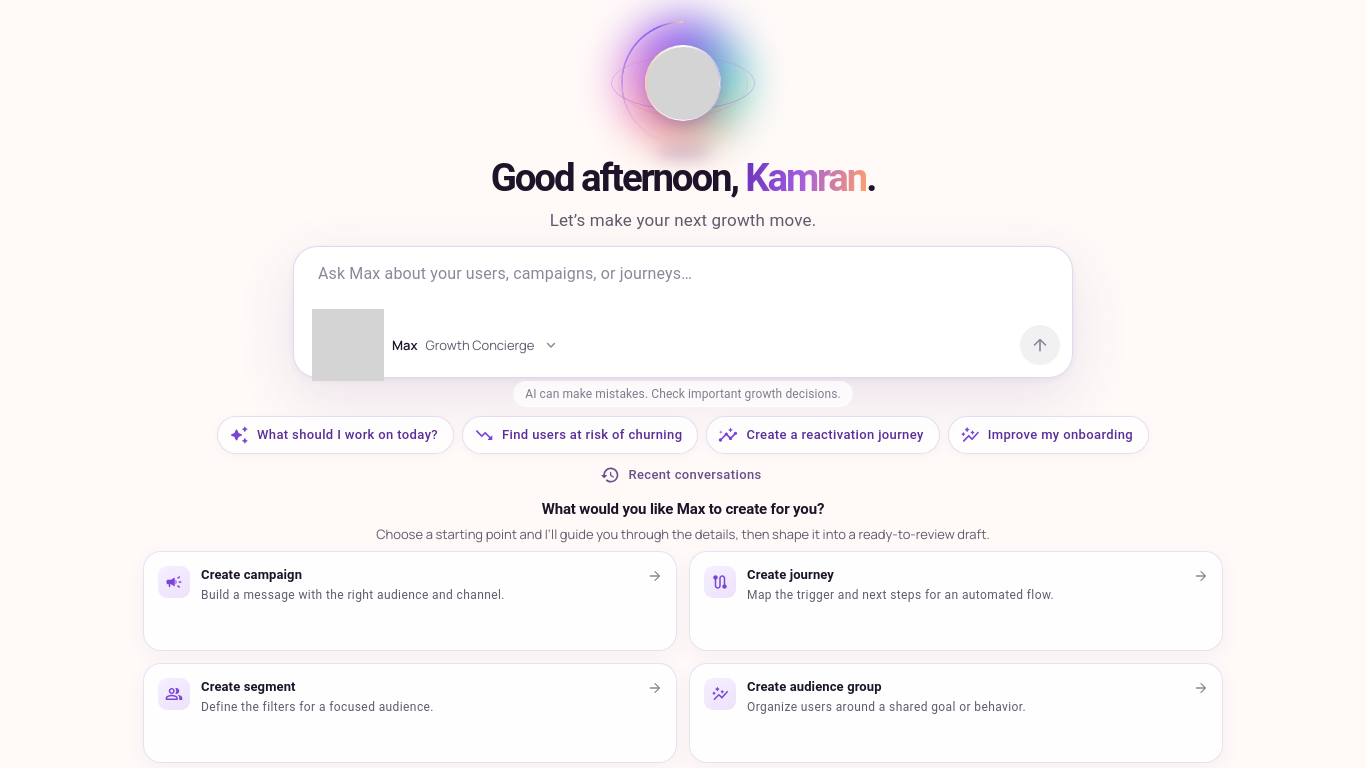
Test: Home chat › searches recent conversations and resumes the selected thread
Click the button "Recent conversations" at (683, 475), box [594,460,772,490]
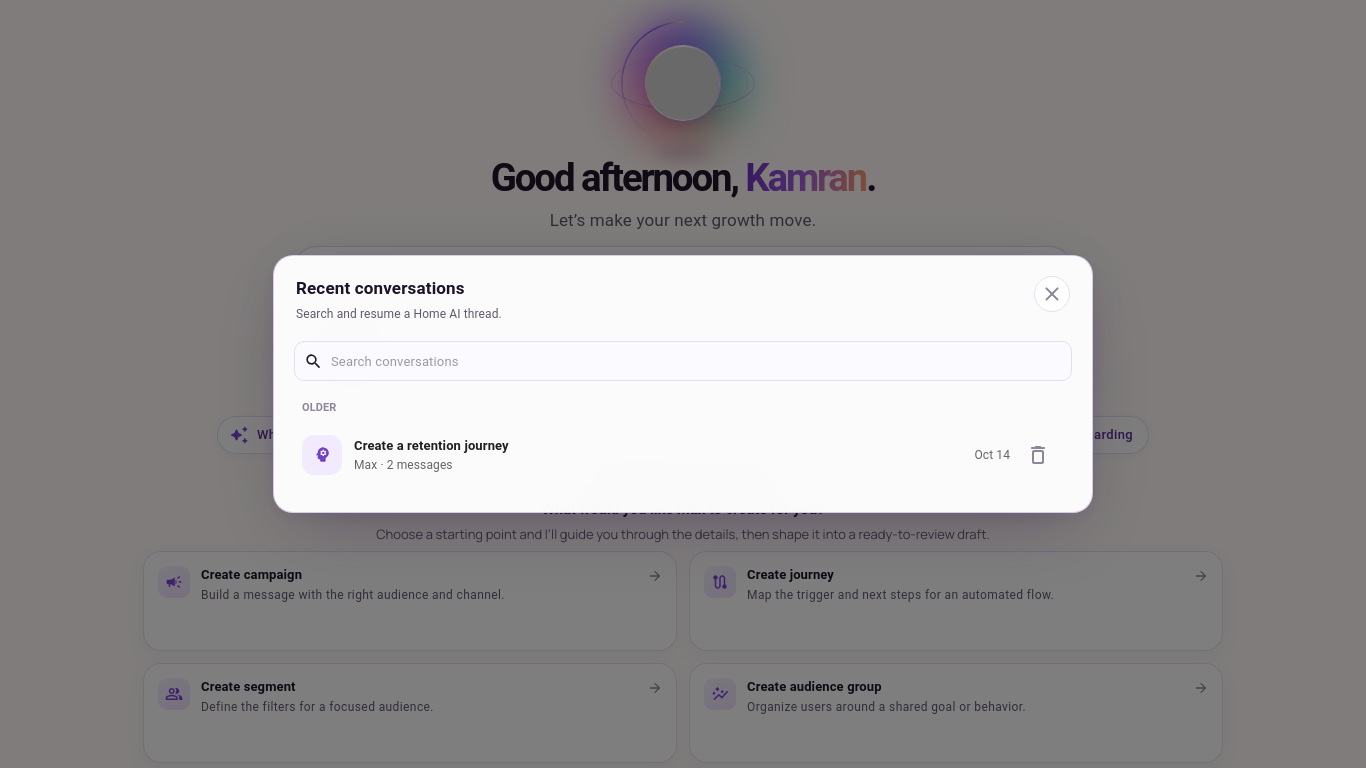
Type "retention" into the field labelled "Search conversations" at (696, 361), box [331,348,1062,374]
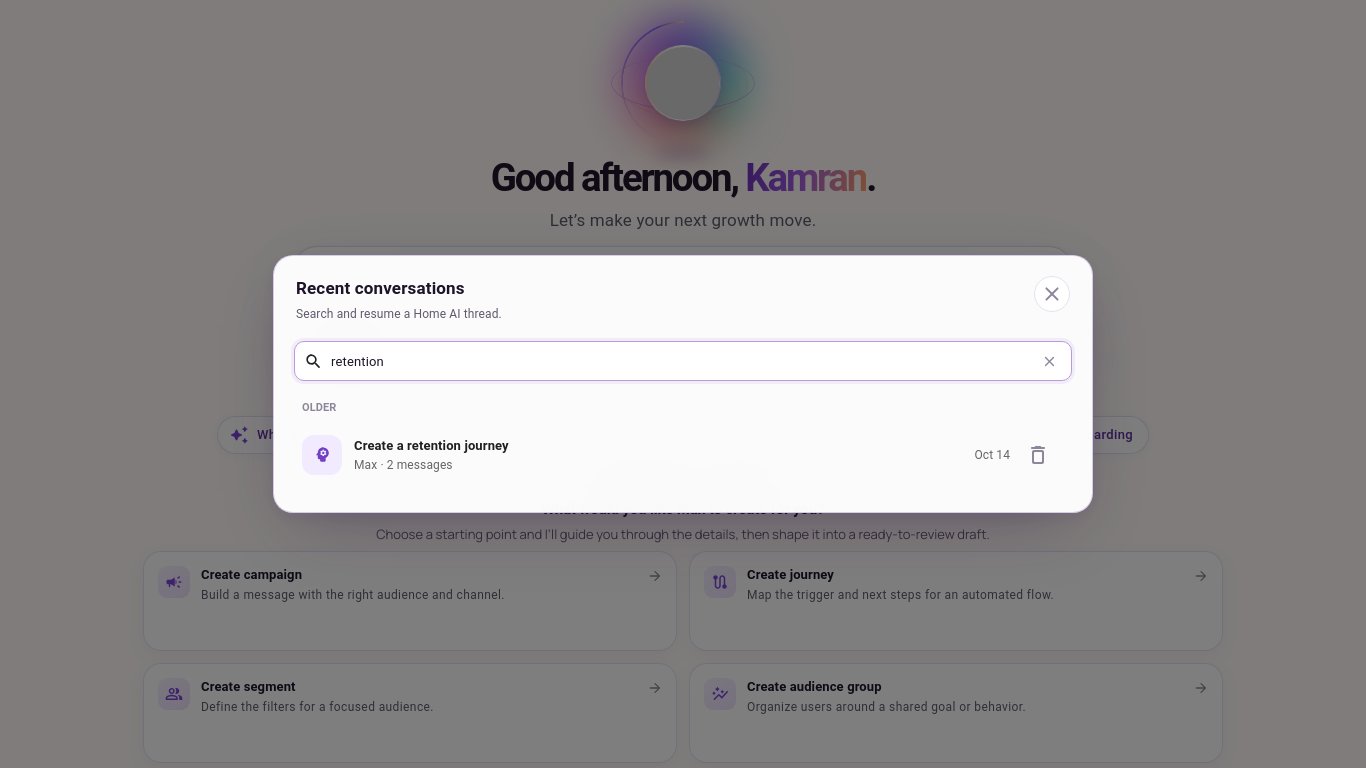
Click the button with aria-label "Open conversation Create a retention journey" at (322, 455), box [302,435,1010,475]
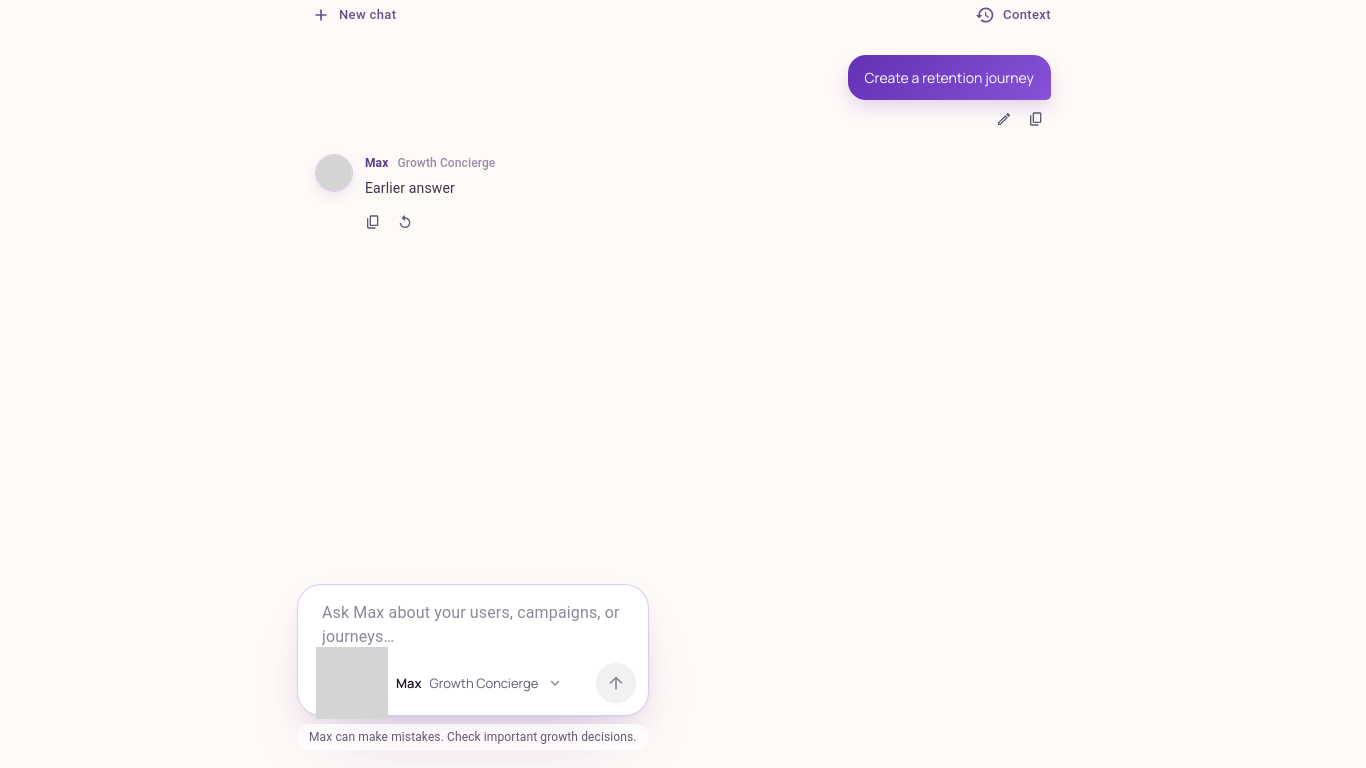
expect the text "Earlier answer" is shown: met, box [365,180,455,196]
